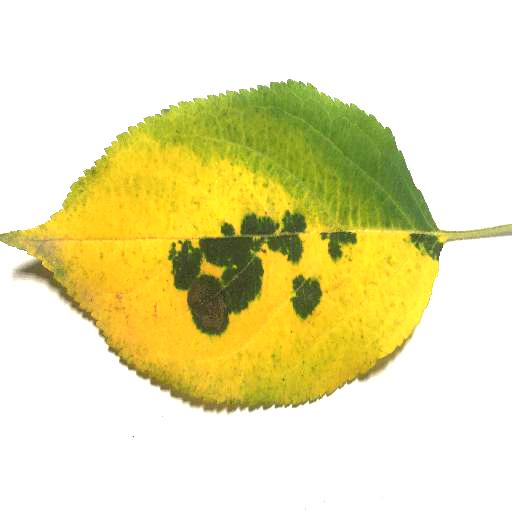Brown_Spot: (191, 275, 234, 333)
